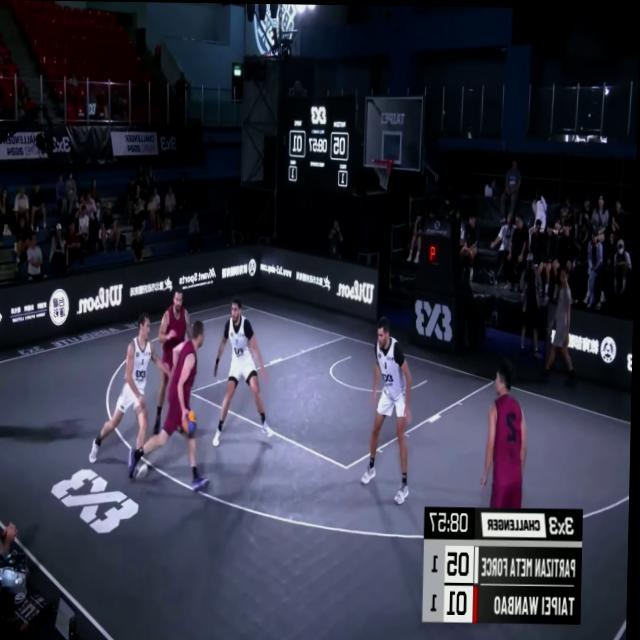ball: (182, 406, 198, 440)
hoop: (372, 154, 396, 195)
player: (128, 317, 207, 496), (92, 312, 165, 474), (479, 363, 532, 556), (365, 317, 417, 501), (218, 297, 274, 446), (153, 283, 197, 441)
